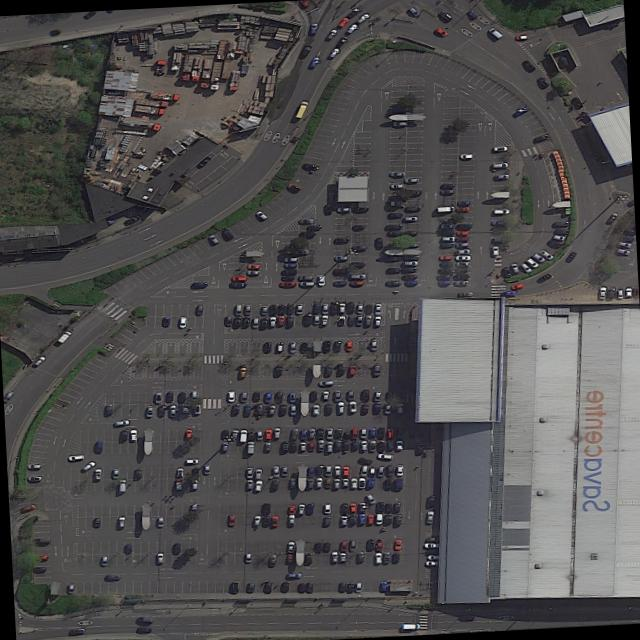large-vehicle: (119, 118, 162, 132), (209, 58, 224, 91), (200, 58, 215, 88), (180, 54, 196, 81), (190, 56, 205, 82), (133, 104, 166, 115), (134, 98, 169, 108), (147, 91, 180, 101), (229, 70, 242, 91)
small-vehicle: (295, 100, 310, 119), (195, 155, 215, 169), (345, 6, 364, 20), (56, 330, 74, 344), (355, 12, 372, 26), (437, 10, 455, 22), (521, 59, 537, 72), (530, 252, 547, 264), (539, 249, 556, 261), (487, 27, 504, 39), (300, 162, 320, 172), (32, 355, 48, 367), (525, 257, 541, 269), (81, 461, 98, 472), (513, 107, 530, 118), (578, 110, 592, 123), (221, 227, 235, 240), (357, 456, 375, 466), (546, 239, 564, 249), (124, 216, 142, 226), (20, 504, 37, 514), (536, 273, 553, 283), (571, 96, 584, 109), (326, 28, 339, 41), (300, 44, 313, 57), (364, 493, 378, 505), (606, 212, 620, 224), (335, 36, 349, 48), (337, 16, 351, 28), (519, 263, 534, 274), (434, 27, 449, 38), (113, 419, 131, 428), (614, 247, 632, 256), (534, 134, 550, 144), (537, 76, 550, 88), (565, 251, 578, 263), (559, 55, 571, 68), (328, 47, 341, 59), (309, 57, 322, 69), (346, 23, 360, 34), (255, 210, 269, 221), (286, 183, 303, 192), (437, 205, 456, 213), (68, 454, 86, 462), (510, 282, 526, 291), (503, 266, 514, 279), (510, 262, 521, 275), (208, 234, 221, 245), (254, 479, 264, 493), (408, 7, 422, 17), (33, 554, 50, 562), (438, 267, 455, 275), (33, 537, 52, 544), (424, 542, 443, 549), (402, 623, 421, 630), (136, 616, 155, 623), (359, 465, 370, 477), (303, 553, 314, 565), (290, 428, 300, 441), (268, 554, 278, 567), (118, 479, 128, 492), (366, 539, 376, 552), (375, 539, 385, 552), (466, 10, 479, 20), (374, 302, 384, 315), (304, 313, 314, 326), (551, 234, 567, 242), (619, 234, 635, 242), (247, 440, 256, 454), (426, 510, 435, 524), (492, 162, 510, 169), (69, 628, 87, 635), (83, 11, 97, 20), (402, 254, 420, 261), (385, 255, 403, 262), (405, 189, 423, 196), (386, 465, 396, 477), (165, 391, 175, 403), (339, 540, 349, 552), (315, 477, 325, 489), (312, 302, 322, 314), (233, 316, 243, 328), (195, 304, 205, 316), (320, 314, 330, 326), (377, 453, 394, 460), (318, 380, 335, 387), (456, 223, 473, 230), (501, 290, 518, 297), (386, 267, 403, 274), (402, 260, 419, 267), (387, 230, 404, 237), (389, 171, 406, 178), (392, 120, 409, 127), (333, 268, 350, 275), (384, 402, 393, 415), (334, 439, 343, 452), (317, 439, 326, 452), (349, 400, 358, 413), (395, 478, 404, 491), (288, 540, 297, 553), (118, 516, 127, 529), (94, 467, 103, 480), (349, 539, 358, 552), (394, 513, 403, 526), (271, 478, 280, 491), (272, 465, 281, 478), (262, 515, 271, 528), (288, 514, 297, 527), (427, 495, 436, 508), (330, 301, 339, 314), (375, 237, 384, 250), (240, 429, 248, 443), (338, 401, 346, 415), (554, 228, 570, 235), (455, 248, 471, 255), (617, 241, 633, 248), (402, 267, 418, 274), (307, 224, 323, 231), (335, 237, 351, 244), (308, 428, 317, 440), (273, 427, 282, 439), (396, 464, 405, 476), (387, 439, 396, 451), (342, 440, 351, 452), (373, 402, 382, 414), (325, 364, 334, 376), (146, 406, 155, 418), (193, 403, 202, 415), (227, 391, 236, 403), (374, 390, 383, 402), (325, 402, 334, 414), (279, 403, 288, 415), (268, 404, 277, 416), (256, 404, 265, 416), (314, 542, 323, 554), (232, 581, 241, 593), (347, 582, 356, 594), (392, 552, 401, 564), (374, 552, 383, 564), (394, 539, 403, 551), (135, 467, 144, 479), (384, 513, 393, 525), (376, 501, 385, 513), (324, 477, 333, 489), (333, 477, 342, 489), (358, 477, 367, 489), (306, 503, 315, 515), (253, 515, 262, 527), (263, 503, 272, 515), (154, 392, 163, 404), (454, 255, 472, 261), (179, 316, 188, 328), (310, 23, 319, 35), (322, 302, 331, 314), (295, 303, 304, 315), (269, 304, 278, 316), (234, 304, 243, 316), (333, 340, 342, 352), (323, 340, 332, 352), (281, 269, 299, 275), (437, 274, 452, 281), (326, 427, 334, 440), (317, 427, 325, 440), (378, 440, 386, 453), (374, 364, 382, 377), (130, 429, 138, 442), (96, 441, 104, 454), (170, 404, 178, 417), (306, 581, 314, 594), (357, 551, 365, 564), (350, 477, 358, 490), (599, 286, 607, 299), (289, 341, 297, 354), (286, 315, 294, 328), (492, 220, 509, 226), (453, 274, 470, 280), (280, 281, 297, 287), (386, 224, 403, 230), (299, 231, 316, 237), (293, 249, 310, 255), (298, 218, 315, 224), (350, 273, 367, 279), (334, 428, 343, 439), (265, 429, 274, 440), (316, 465, 325, 476), (326, 441, 335, 452), (239, 367, 248, 378), (157, 553, 166, 564), (100, 555, 109, 566), (93, 517, 102, 528), (190, 503, 199, 514), (112, 468, 121, 479), (323, 542, 332, 553), (247, 582, 256, 593), (339, 552, 348, 563), (176, 467, 185, 478), (367, 514, 376, 525), (358, 502, 367, 513), (393, 502, 402, 513), (324, 503, 333, 514), (225, 316, 234, 327), (365, 304, 374, 315), (286, 304, 295, 315), (244, 304, 253, 315), (162, 317, 171, 328), (276, 341, 285, 352), (404, 216, 418, 223), (334, 255, 348, 262), (378, 427, 386, 439), (360, 427, 368, 439), (351, 428, 359, 440), (300, 429, 308, 441), (325, 465, 333, 477), (334, 465, 342, 477), (377, 466, 385, 478), (396, 439, 404, 451), (369, 440, 377, 452), (397, 402, 405, 414), (338, 364, 346, 376), (121, 429, 129, 441), (158, 405, 166, 417), (191, 390, 199, 402), (334, 390, 342, 402), (310, 391, 318, 403), (290, 404, 298, 416), (276, 391, 284, 403), (244, 404, 252, 416), (245, 552, 253, 564), (106, 574, 122, 580), (265, 582, 273, 594), (355, 581, 363, 593), (287, 573, 303, 579), (383, 552, 391, 564), (359, 513, 367, 525), (376, 513, 384, 525), (307, 477, 315, 489), (255, 468, 263, 480), (281, 466, 289, 478), (228, 515, 236, 527), (272, 515, 280, 527), (298, 503, 306, 515), (492, 245, 500, 257), (554, 221, 570, 227), (493, 146, 509, 152), (454, 280, 470, 286), (439, 262, 455, 268), (440, 223, 456, 229), (455, 206, 471, 212), (608, 287, 616, 299), (425, 560, 441, 566), (243, 316, 251, 328), (347, 302, 355, 314), (232, 275, 248, 281), (252, 317, 260, 329), (458, 292, 474, 298), (346, 340, 354, 352), (301, 342, 309, 354), (374, 315, 382, 327), (365, 315, 373, 327), (313, 314, 321, 326), (278, 315, 286, 327), (386, 281, 402, 287), (402, 274, 418, 280), (388, 213, 404, 219), (405, 206, 421, 212), (353, 207, 369, 213), (299, 275, 315, 281), (318, 274, 326, 286), (352, 245, 368, 251), (363, 389, 370, 402), (176, 478, 183, 491), (368, 467, 377, 477), (307, 467, 316, 477), (173, 543, 182, 553), (27, 463, 42, 469), (33, 566, 48, 572), (491, 237, 506, 243), (495, 174, 510, 180), (440, 189, 455, 195), (515, 34, 530, 40), (437, 280, 452, 286), (456, 261, 471, 267), (439, 255, 454, 261), (441, 242, 456, 248), (441, 236, 456, 242), (230, 282, 248, 287), (281, 275, 296, 281), (404, 230, 419, 236), (349, 280, 364, 286), (351, 262, 366, 268), (290, 441, 298, 452), (387, 428, 395, 439), (256, 430, 264, 441), (248, 430, 256, 441), (221, 441, 229, 452), (343, 466, 351, 477), (179, 392, 187, 403), (361, 403, 369, 414), (313, 404, 321, 415), (289, 392, 297, 403), (253, 391, 261, 402), (385, 479, 393, 490), (287, 553, 295, 564), (125, 544, 133, 555), (157, 516, 165, 527), (282, 582, 290, 593), (339, 582, 347, 593), (191, 479, 199, 490), (341, 503, 349, 514), (342, 477, 350, 488), (341, 515, 349, 526), (204, 464, 212, 475), (357, 303, 365, 314), (339, 303, 347, 314), (278, 304, 286, 315), (261, 317, 269, 328), (264, 342, 272, 353), (356, 315, 364, 326), (347, 315, 355, 326), (269, 316, 277, 327), (325, 204, 333, 215), (493, 209, 510, 214), (137, 627, 154, 632), (336, 207, 353, 212), (417, 442, 424, 454), (266, 392, 273, 404), (233, 403, 240, 415), (299, 582, 306, 594), (381, 580, 388, 592), (332, 551, 339, 563), (185, 458, 199, 464), (350, 514, 357, 526), (247, 467, 254, 479), (290, 477, 297, 489), (460, 153, 474, 159), (457, 200, 471, 206), (455, 267, 469, 273), (456, 242, 470, 248), (455, 236, 469, 242), (49, 29, 61, 36), (264, 442, 272, 452), (232, 429, 240, 439), (275, 366, 283, 376), (222, 430, 230, 440), (185, 429, 193, 439), (182, 403, 190, 413), (349, 365, 357, 375), (27, 476, 43, 481), (367, 478, 375, 488), (385, 503, 393, 513), (192, 467, 200, 477), (288, 505, 296, 515), (617, 289, 625, 299), (459, 615, 475, 620), (427, 555, 443, 560), (261, 305, 269, 315), (192, 282, 208, 287), (389, 184, 405, 189), (404, 178, 420, 183), (283, 257, 299, 262), (299, 281, 315, 286), (334, 281, 347, 287), (283, 441, 290, 452), (300, 441, 307, 452), (309, 441, 316, 452), (361, 440, 368, 451), (352, 440, 359, 451), (106, 404, 113, 415), (348, 390, 355, 401), (241, 392, 248, 403), (350, 502, 357, 513), (324, 515, 331, 526), (626, 287, 633, 298), (371, 340, 378, 351), (339, 315, 346, 326), (440, 184, 455, 189), (455, 231, 470, 236), (246, 270, 261, 275), (247, 264, 262, 269), (284, 263, 299, 268), (369, 428, 377, 437), (344, 431, 352, 440), (323, 390, 330, 400), (247, 479, 254, 489), (405, 281, 419, 286), (352, 225, 366, 230), (68, 584, 75, 594), (634, 287, 639, 297)
